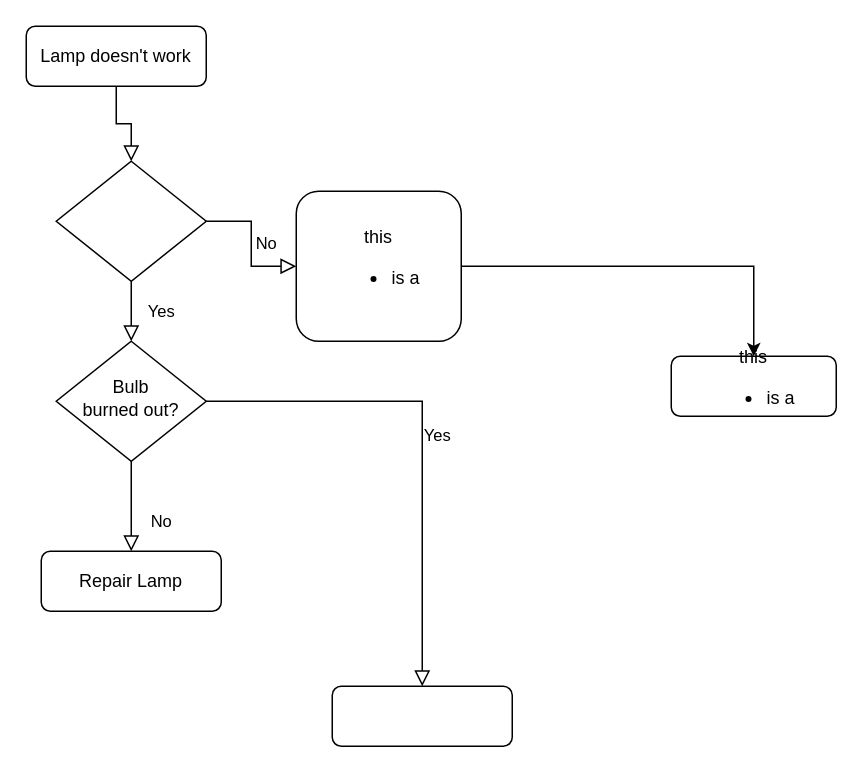
Some shapes in this 863 by 773 pixel diagram are drawn without their labels. Here are the shapes that lost their labels. From the top down, the centre of each, then its label:
At point 130,220: "Lamp plugged in?".
At point 421,715: "Replace Bulb".
